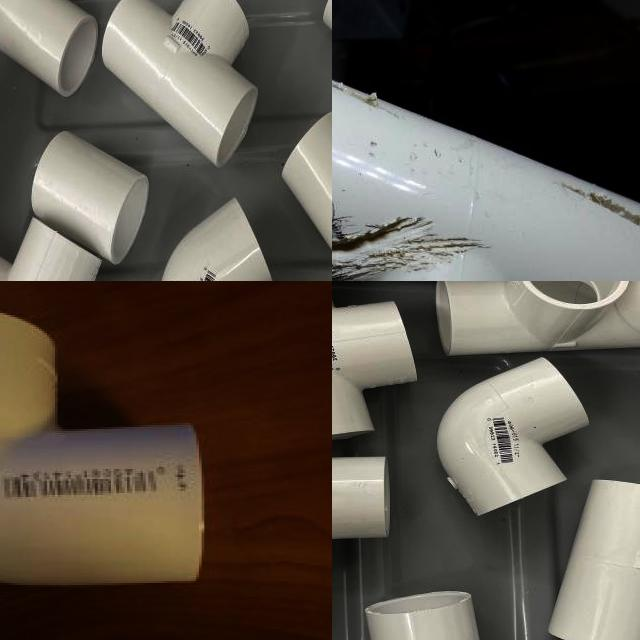Defective: (332, 158, 416, 279), (559, 181, 640, 276), (332, 241, 473, 280), (332, 77, 422, 116)
L Joint: (0, 312, 206, 589), (435, 359, 589, 518), (160, 200, 275, 281)
T Joint: (102, 0, 259, 169), (548, 480, 640, 640), (332, 294, 419, 443)
